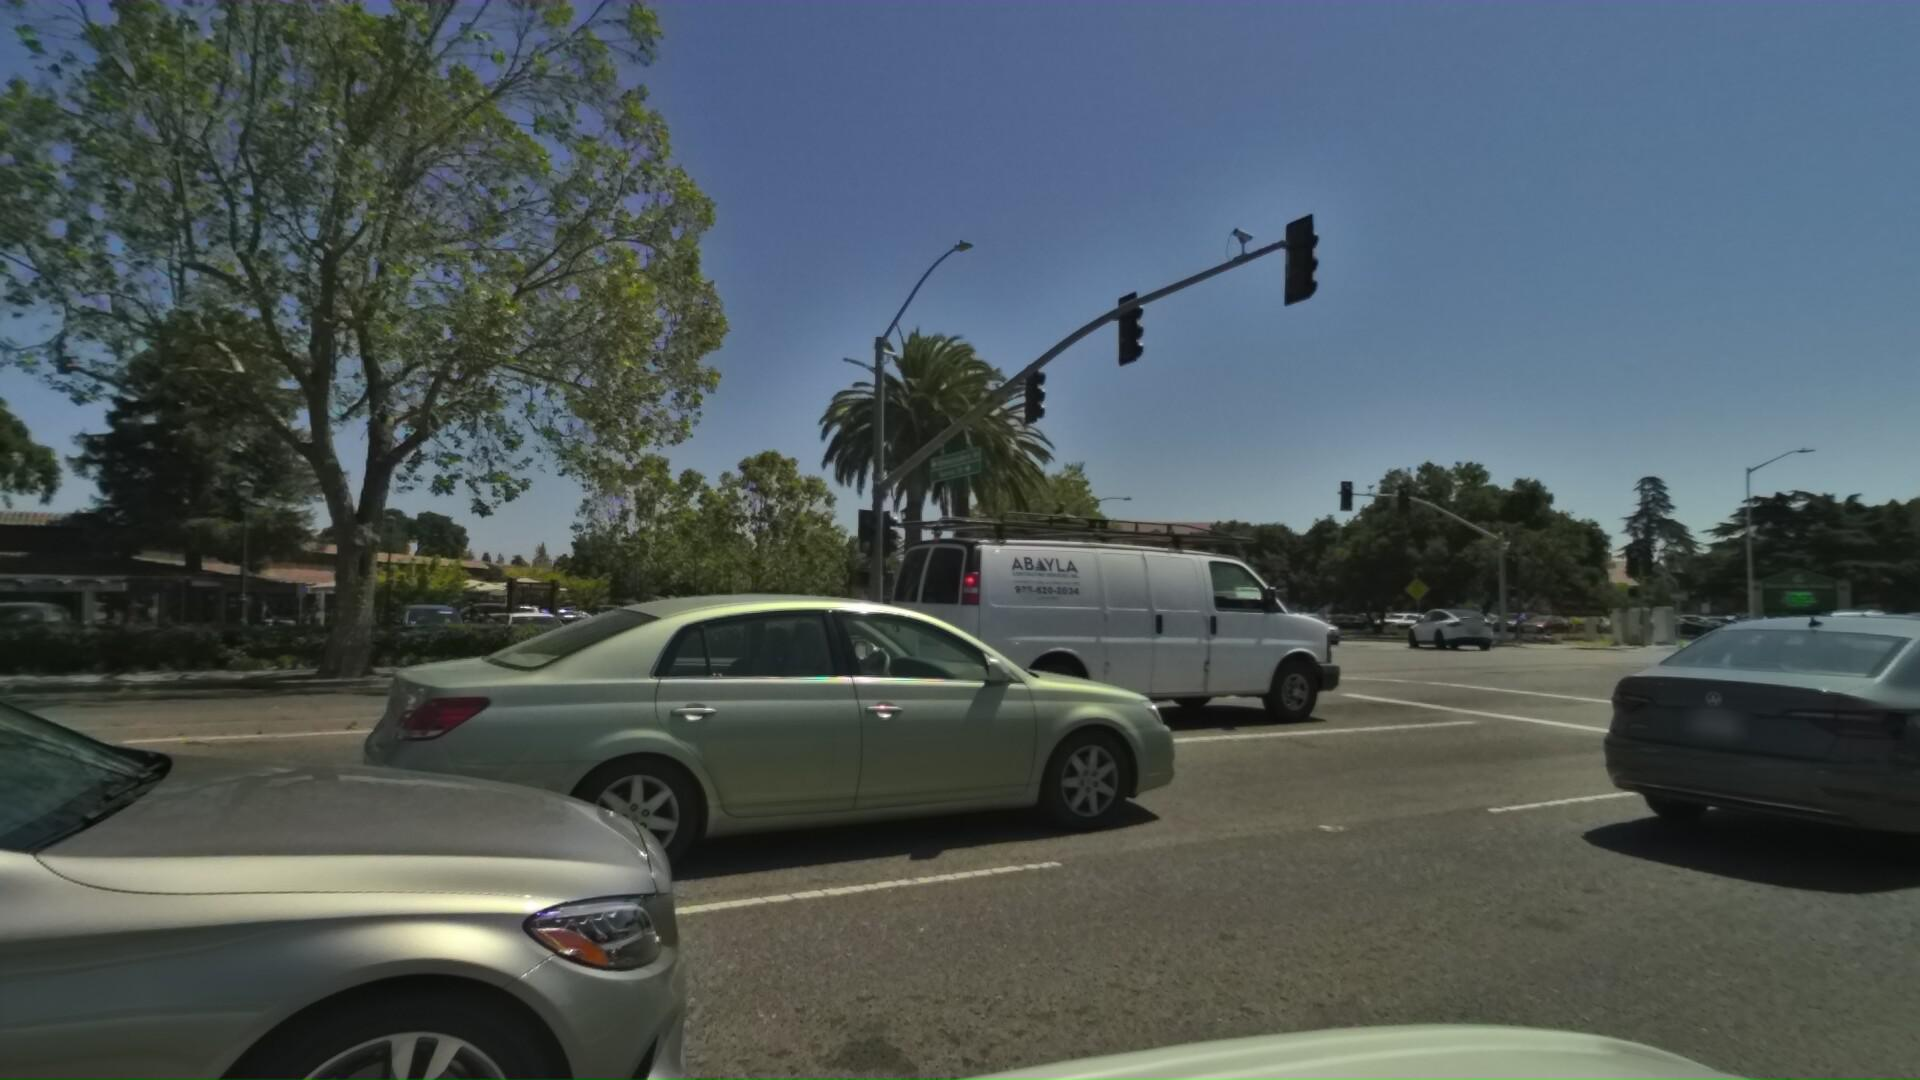car: (0, 299, 785, 1080), (351, 574, 1215, 920), (1561, 591, 1920, 901), (1745, 605, 1920, 733), (1191, 571, 1296, 647), (1766, 603, 1900, 653), (0, 593, 100, 661), (483, 599, 579, 655), (382, 595, 475, 653), (1691, 611, 1803, 647), (1394, 601, 1490, 644), (1159, 607, 1245, 651), (1262, 600, 1344, 640), (1894, 608, 1920, 659)
other_vehicle: (870, 495, 1356, 744)
